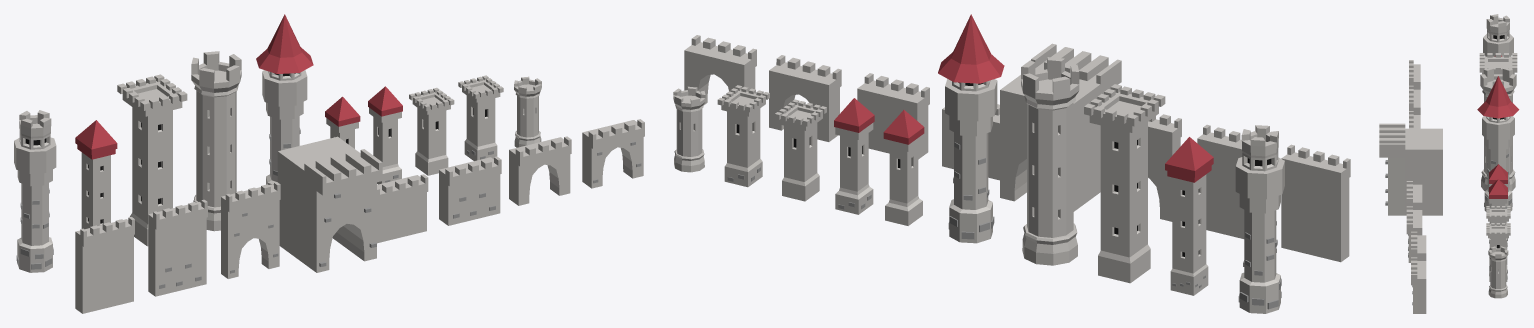
Rendered from Modular Castle Kit.glb.
3 views of the same model, side by side, from view 1: azimuth 30°, elevation 25°; view 2: azimuth 150°, elevation 25°; view 3: azimuth 270°, elevation 25° (orthographic). The views are drawn at different scales.
Parts seen in each view (by area): view 1: Cube.037, Cylinder.002, Cube.042, Tower.002, TallWallBricks.002, Cube.005, Cylinder, TallWallEntrance.002, Cube.038, LargeSimpleTower.002, Cube.039, WallEntranceBricks.002 (+6 smaller); view 2: Cylinder.002, Cube.042, Cylinder, Cube.037, Tower.002, Cube.005, LargeSimpleTower.002, Cube.045, TallWallBricks.002, Cube.025, Cube.041, Cube.044 (+6 smaller); view 3: Cube.037, Cylinder, Cylinder.002, Tower.002, Cylinder.001, WallEntranceBricks.002, Cube.042, Cube.025, Cube.038, Cube.043, Cube.041, Cube.039 (+5 smaller).
Part boxes in pixels (x1,y1,x2,y2): Cube.037: (277,136,382,272); Cylinder.002: (191,51,241,231); Cube.042: (117,74,187,246); Tower.002: (14,110,56,272); TallWallBricks.002: (148,199,207,296); Cube.005: (75,217,134,313); Cylinder: (256,14,313,184); TallWallEntrance.002: (221,182,280,278); Cube.038: (439,156,501,225); LargeSimpleTower.002: (75,120,117,229); Cube.039: (377,174,428,243); WallEntranceBricks.002: (582,119,644,188); Cylinder.002: (1021,57,1079,265); Cube.042: (1084,84,1165,283); Cylinder: (938,14,1004,243); Cube.037: (1000,43,1121,211); Tower.002: (1235,125,1284,313); Cube.005: (1281,144,1350,262); LargeSimpleTower.002: (1165,137,1213,295); Cube.045: (769,55,841,141); TallWallBricks.002: (1197,124,1244,238); Cube.025: (717,85,769,187); Cube.041: (774,99,826,201); Cube.044: (883,110,924,225); Cube.037: (1379,123,1442,215); Cylinder: (1477,76,1519,211); Cylinder.002: (1480,67,1516,191); Tower.002: (1483,14,1513,56); Cylinder.001: (1488,246,1508,298); WallEntranceBricks.002: (1411,257,1426,313); Cube.042: (1479,53,1517,74); Cube.025: (1486,223,1510,281); Cube.038: (1406,206,1422,262); Cube.043: (1489,179,1507,248); Cube.041: (1486,206,1510,264); Cube.039: (1406,181,1422,209).
Bounding box in the file's own units: 16.79 × 5.4 × 5.07.
